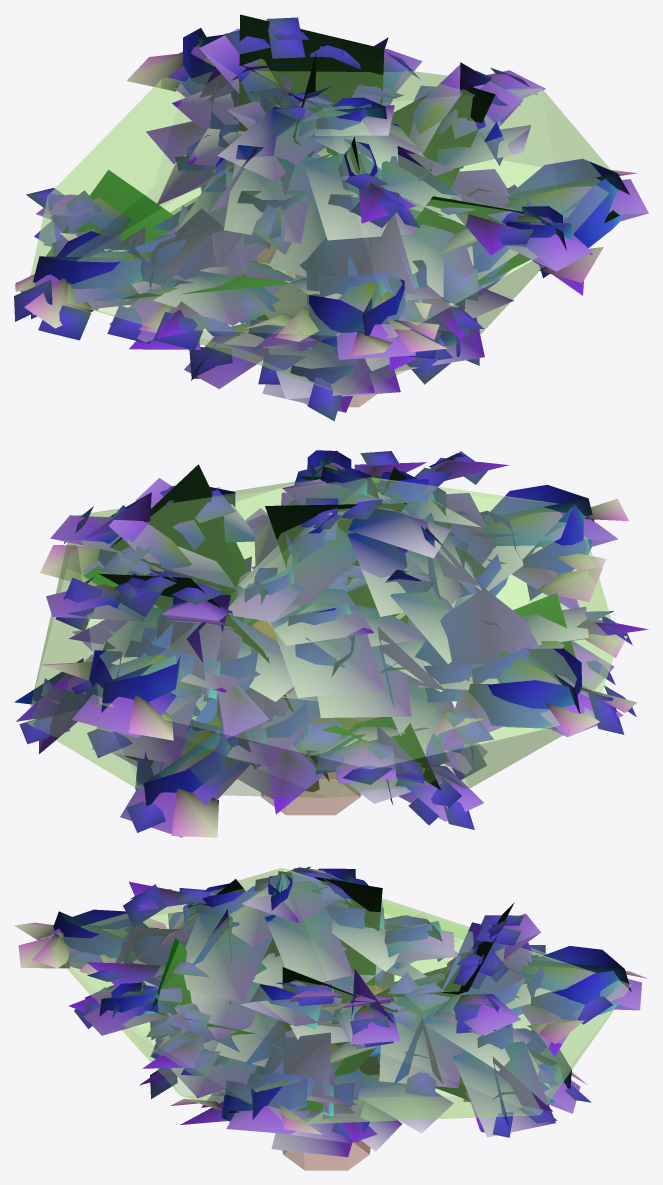
The model's file is tro_tree_2_bush_huge.dae.
3 views of the same model, one above another, from view 1: azimuth 30°, elevation 25°; view 2: azimuth 150°, elevation 25°; view 3: azimuth 270°, elevation 25° (orthographic). The views are drawn at different scales.
Visible parts, largest first — view 1: tree_oak_bush_a700, Colmesh-1, tree_oak_bush_a240; view 2: tree_oak_bush_a700, Colmesh-1, tree_oak_bush_a240; view 3: tree_oak_bush_a700, Colmesh-1, tree_oak_bush_a240.
Boxes of the visible parts, <box> form: tree_oak_bush_a700: <box>14,14,648,421</box>; Colmesh-1: <box>30,44,611,407</box>; tree_oak_bush_a240: <box>34,28,648,388</box>; tree_oak_bush_a700: <box>14,450,648,837</box>; Colmesh-1: <box>27,477,617,815</box>; tree_oak_bush_a240: <box>17,451,617,821</box>; tree_oak_bush_a700: <box>14,866,647,1157</box>; Colmesh-1: <box>40,868,631,1170</box>; tree_oak_bush_a240: <box>59,867,638,1133</box>.
Bounding box in the file's own units: 8.33 × 8.75 × 4.14.
